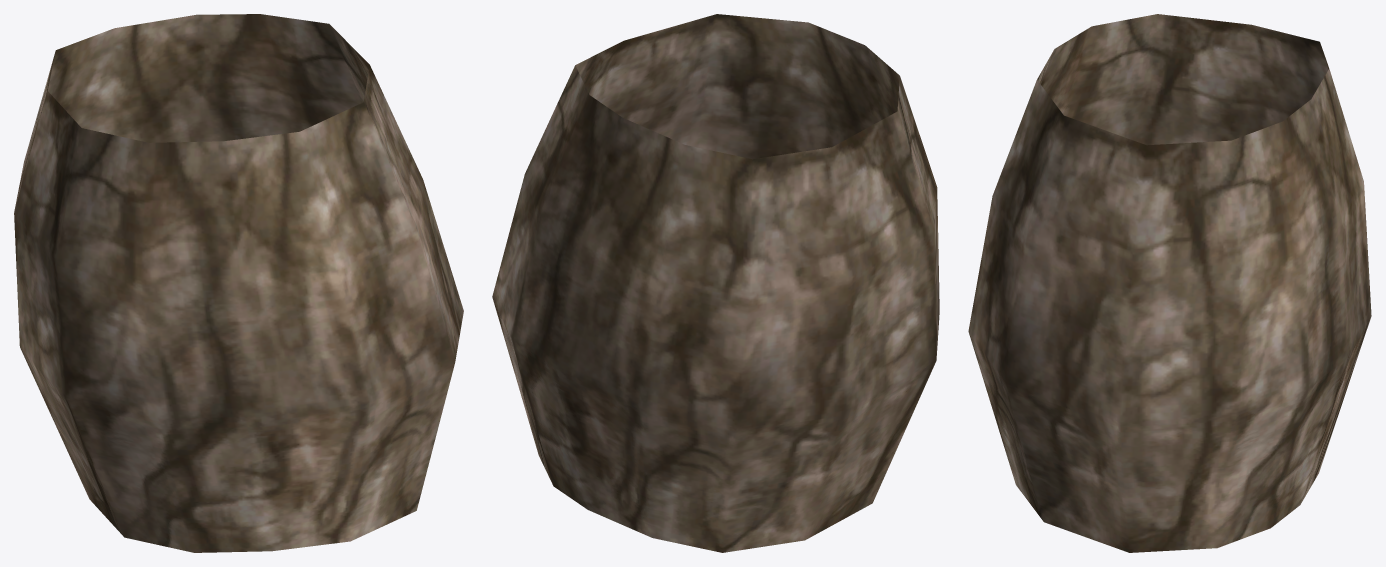
File: EKH_GROTTO_PS_GR_LIB_EXIT_CAVE.fbx
3 renders of one model, left to right at view 1: azimuth 30°, elevation 25°; view 2: azimuth 150°, elevation 25°; view 3: azimuth 270°, elevation 25°, orthographic. The views are drawn at different scales.
Parts seen in each view (by area): view 1: EKH_GROTTO_PS_GR_LIB_EXIT_CAVE; view 2: EKH_GROTTO_PS_GR_LIB_EXIT_CAVE; view 3: EKH_GROTTO_PS_GR_LIB_EXIT_CAVE.
Part boxes in pixels (<box>): EKH_GROTTO_PS_GR_LIB_EXIT_CAVE: <box>14,14,463,552</box>; EKH_GROTTO_PS_GR_LIB_EXIT_CAVE: <box>492,14,939,552</box>; EKH_GROTTO_PS_GR_LIB_EXIT_CAVE: <box>968,14,1371,552</box>.
Bounding box in the file's own units: 29373 × 29578 × 27285.
Materials: 1 (1 with a texture image).
